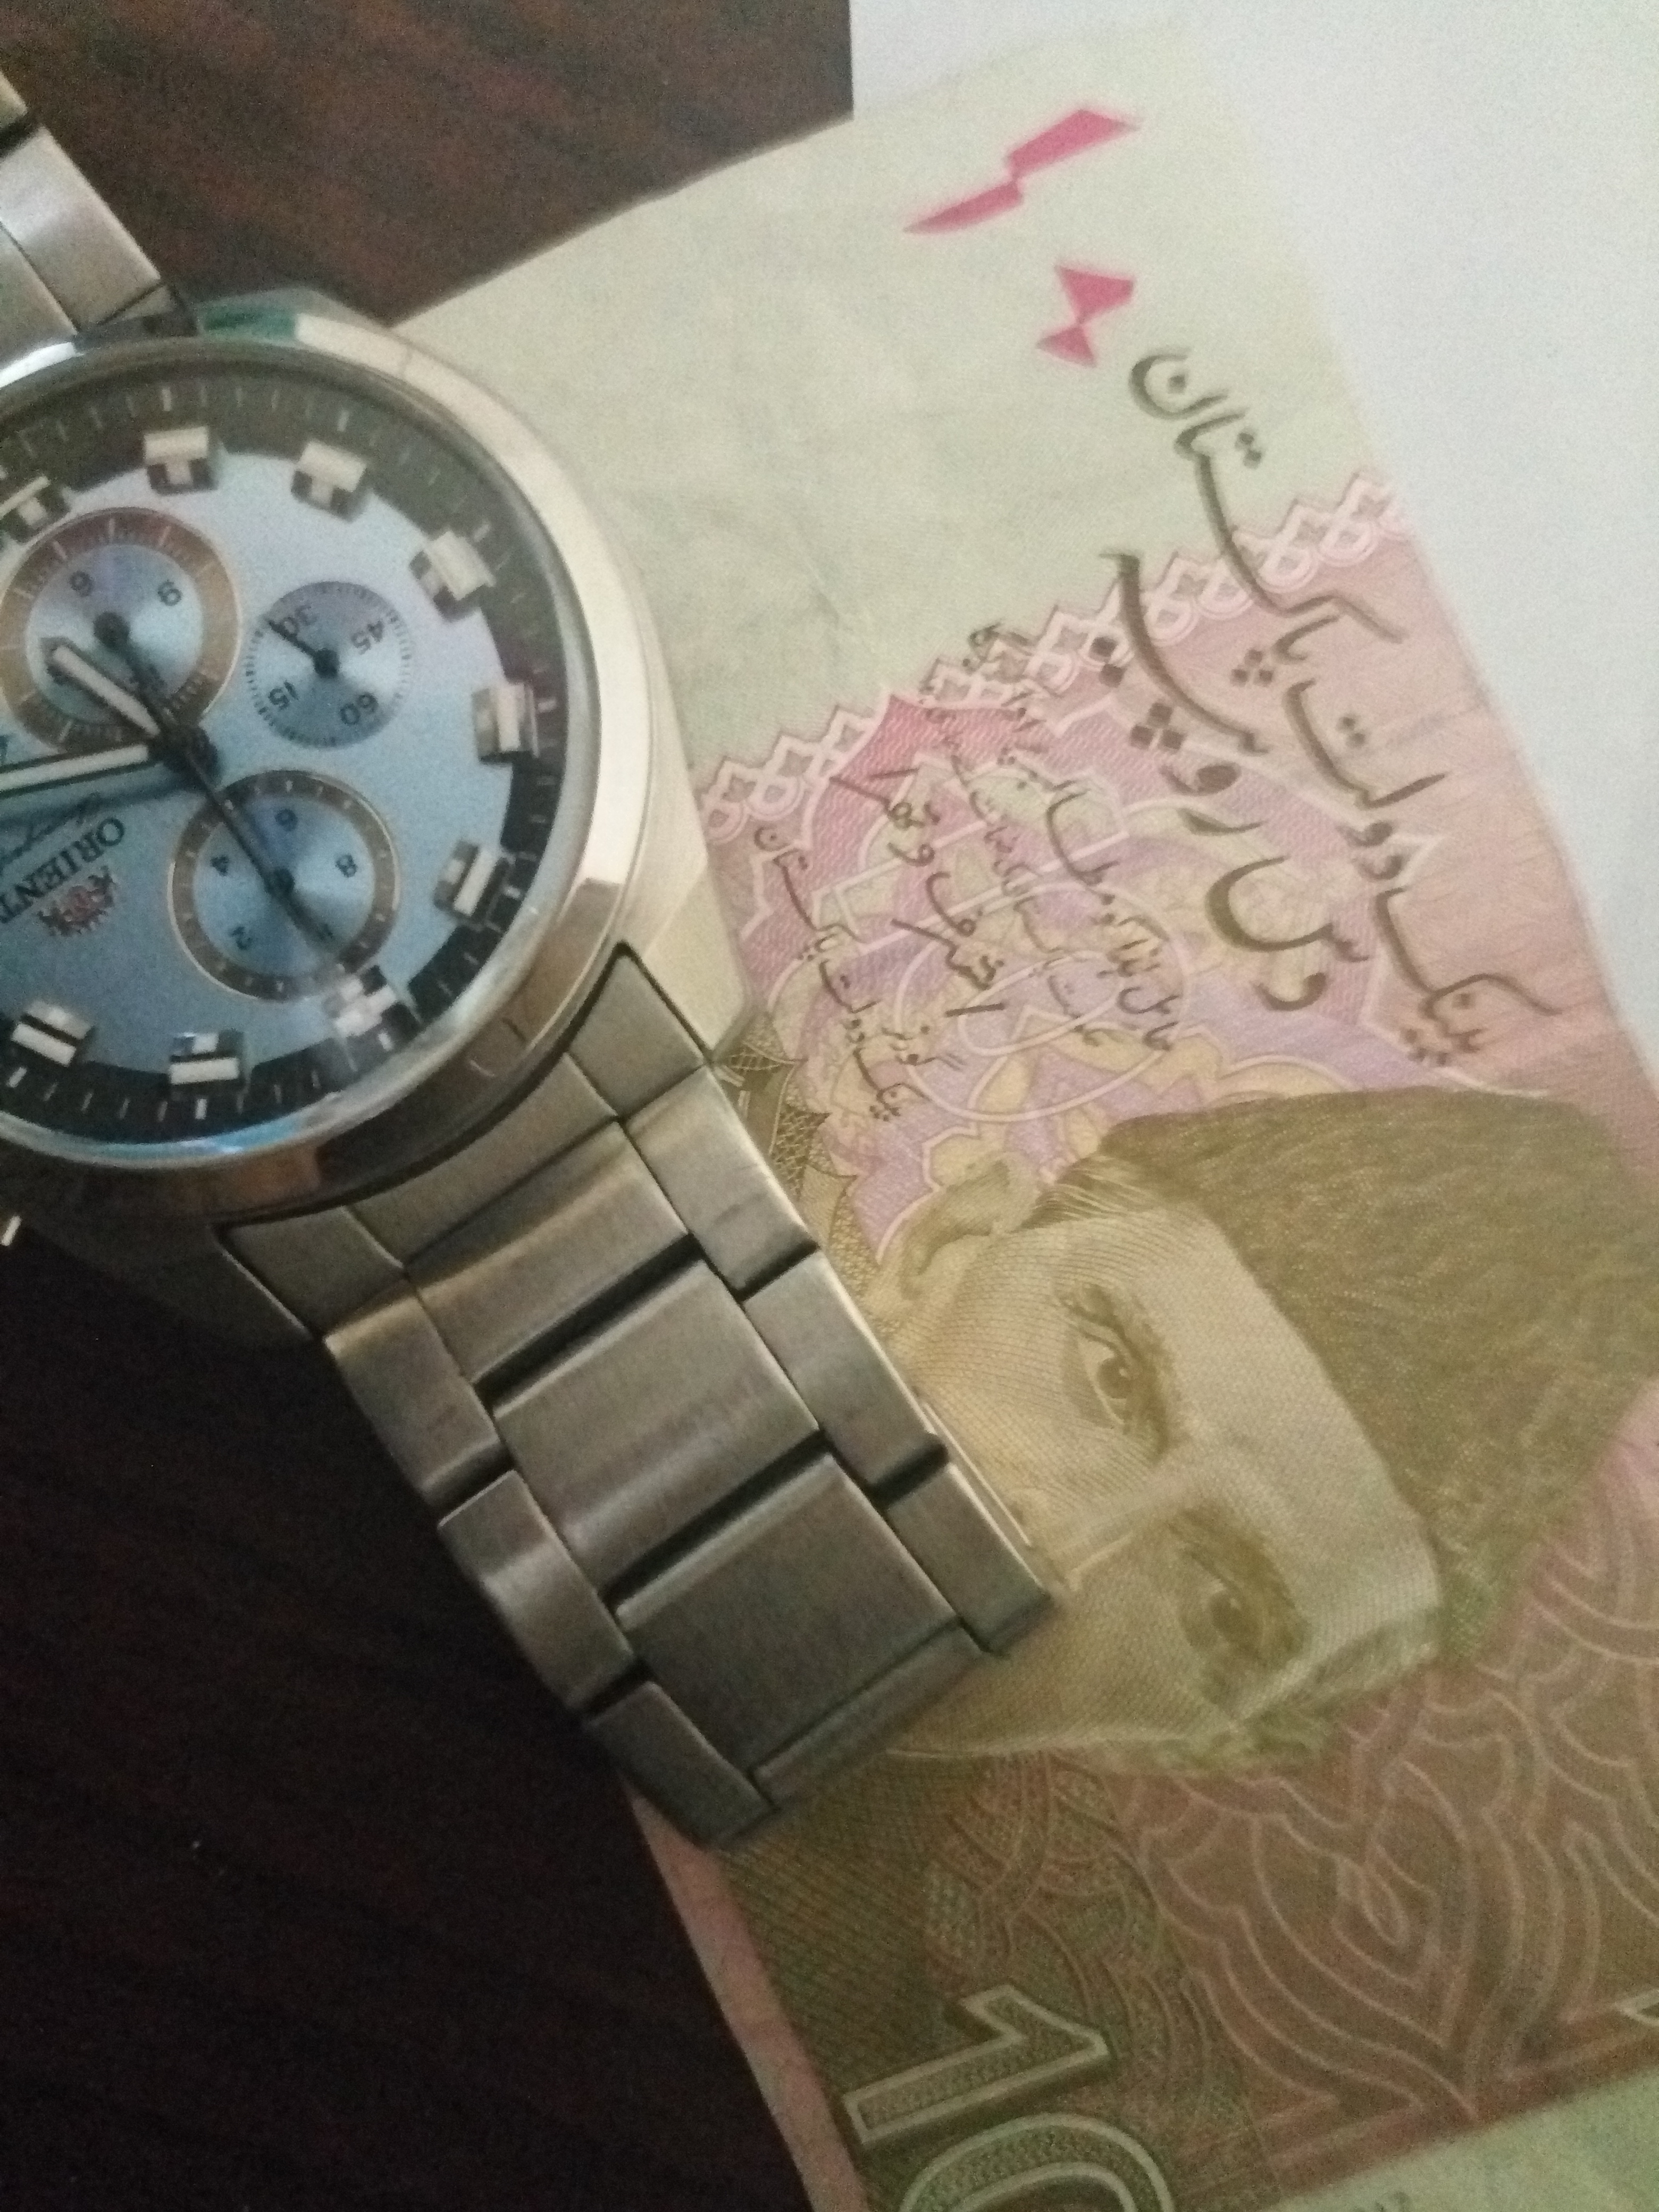10 rupee: (209, 75, 1643, 2212)
